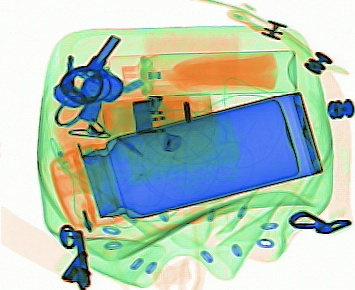pressure: (104, 46, 297, 97)
